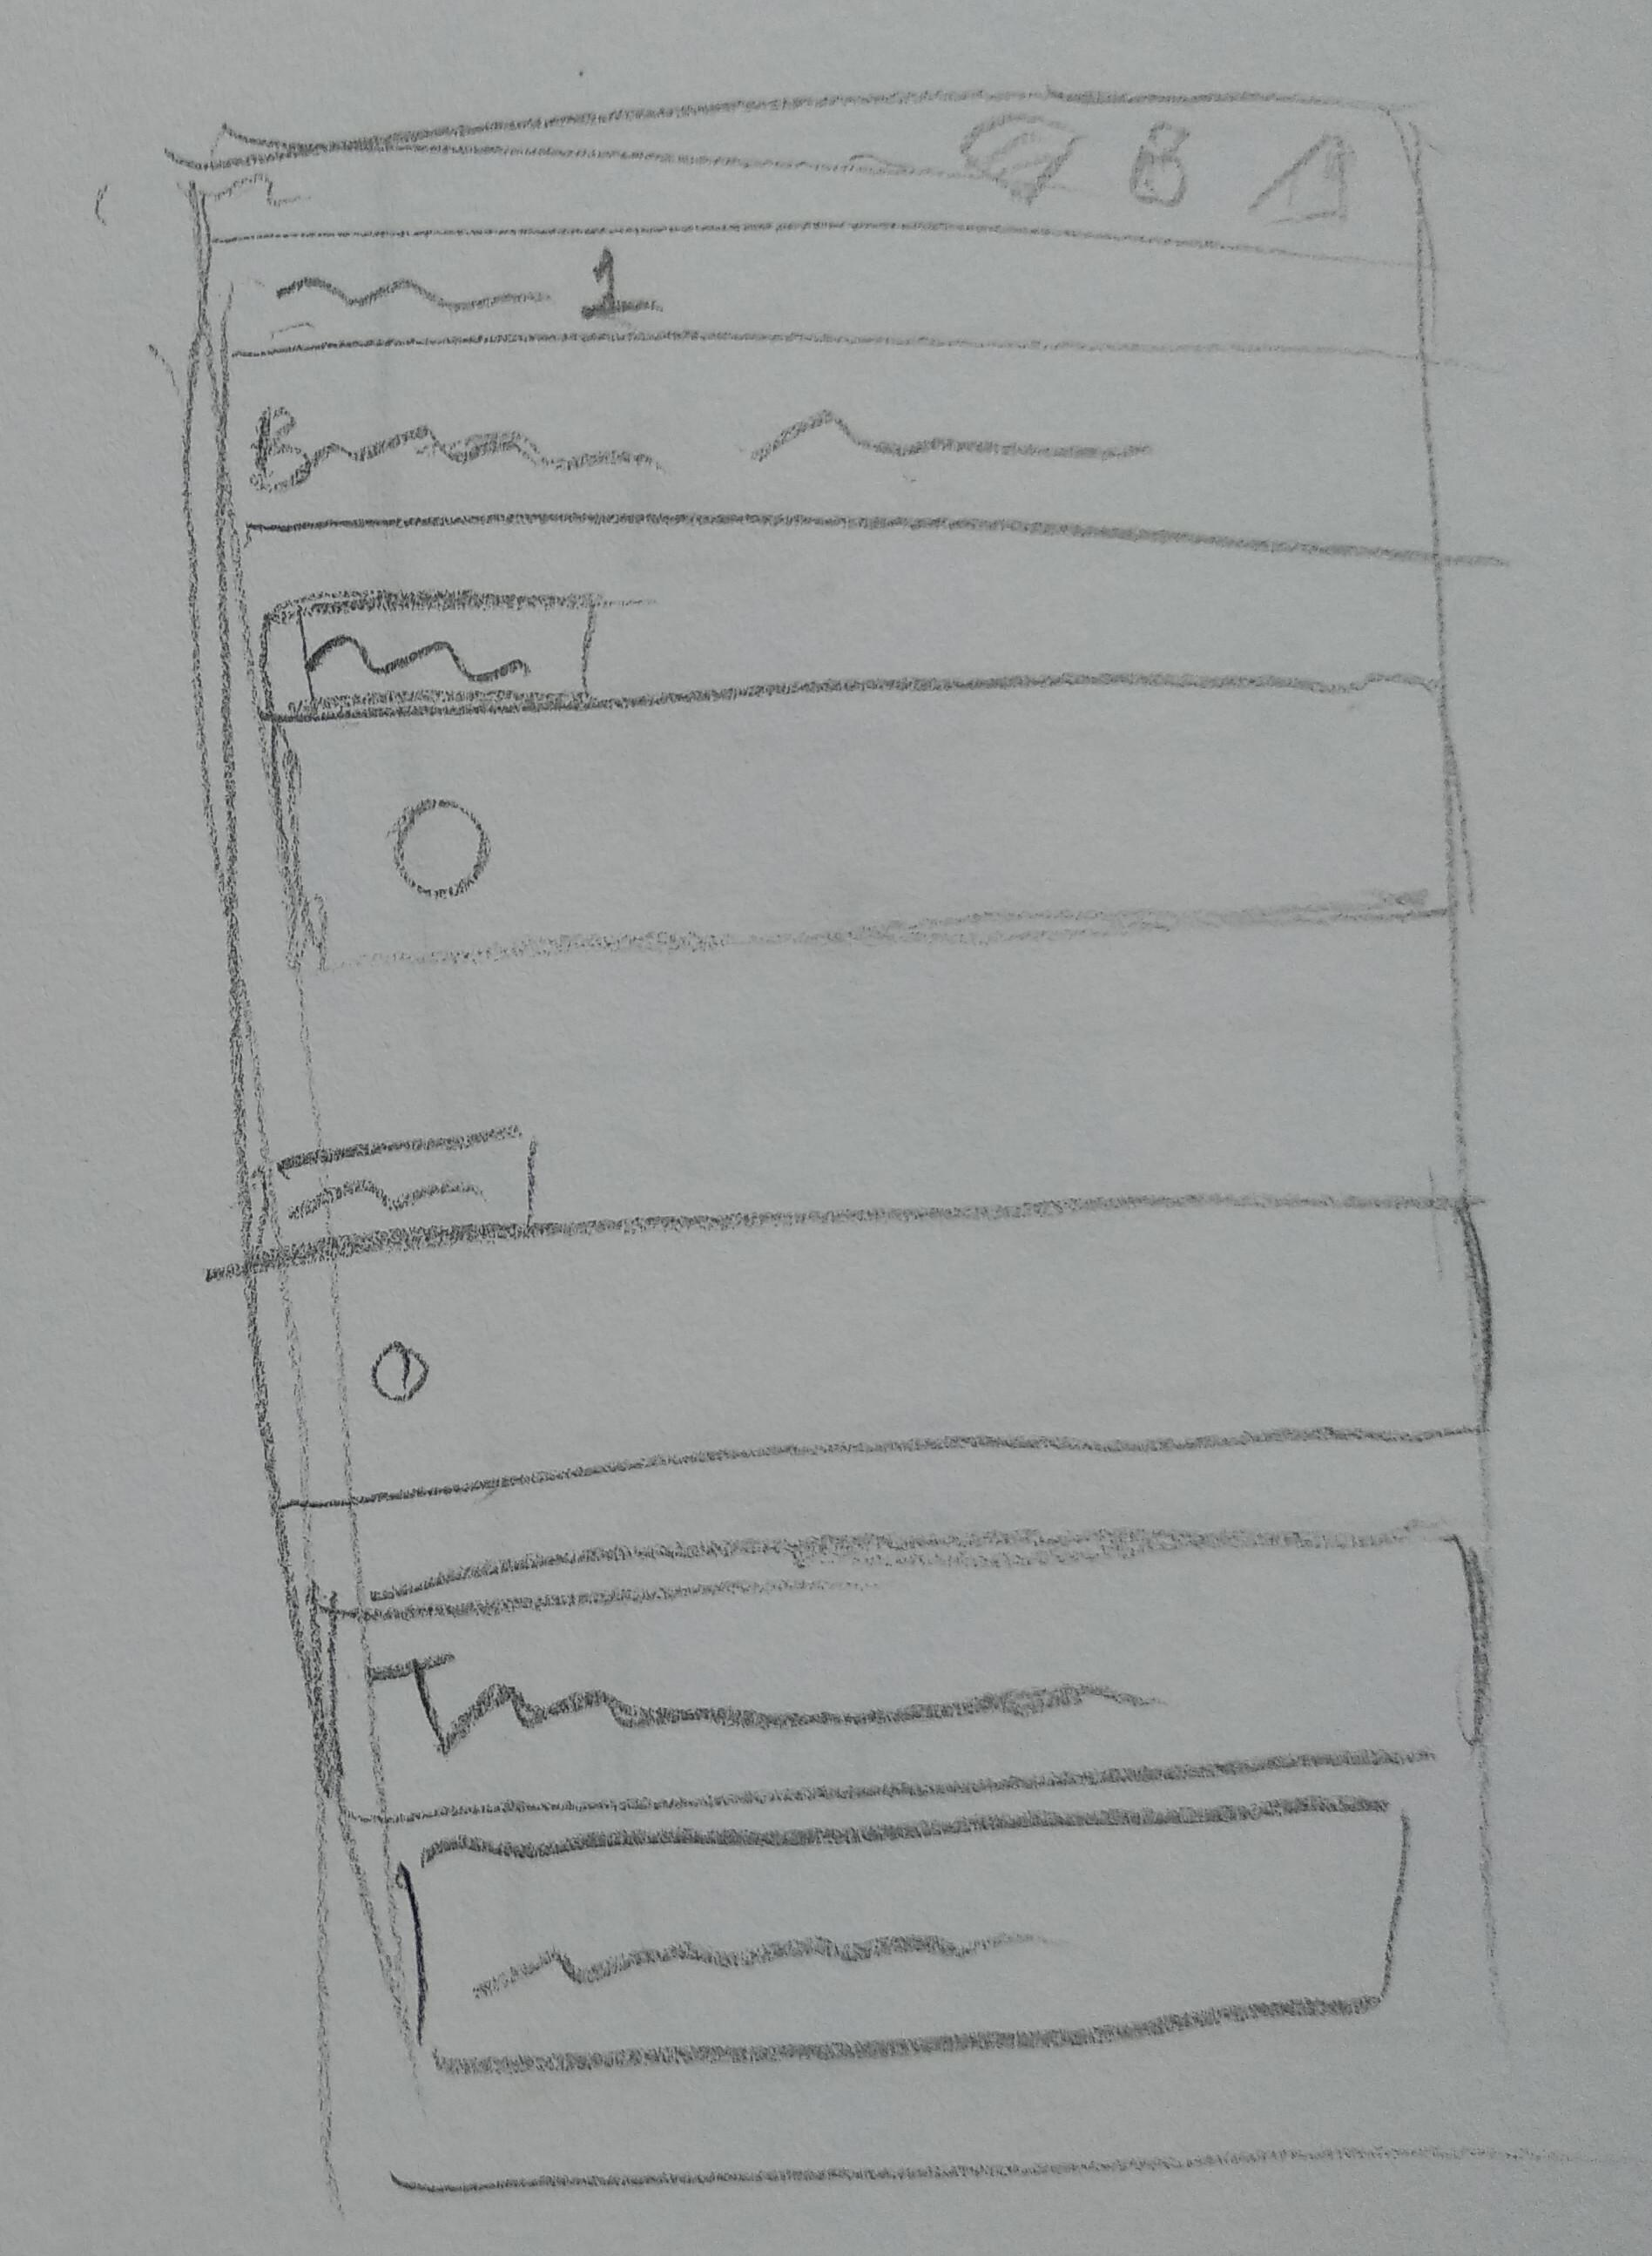Button: (245, 1124, 545, 1265), (251, 592, 613, 704)
Label: (249, 371, 1158, 508), (272, 240, 669, 321)
Screen: (191, 100, 1515, 2160)
TextBox: (329, 1524, 1487, 1818), (405, 1797, 1412, 2072)
